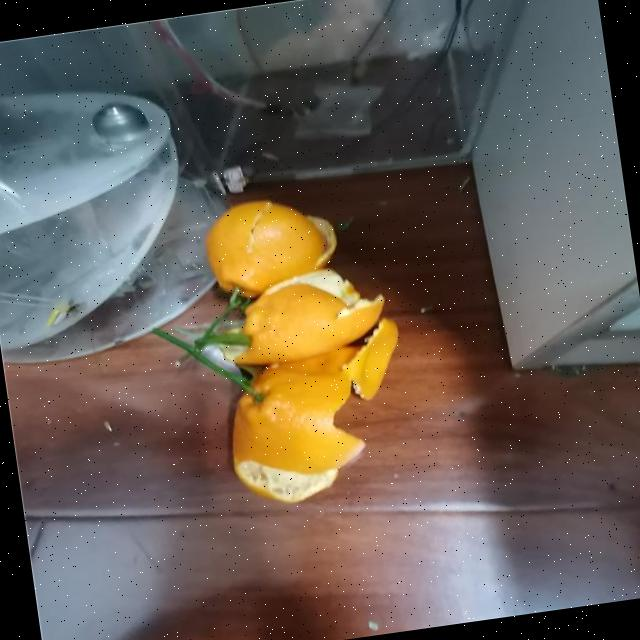orange-peel: (191, 182, 420, 512)
